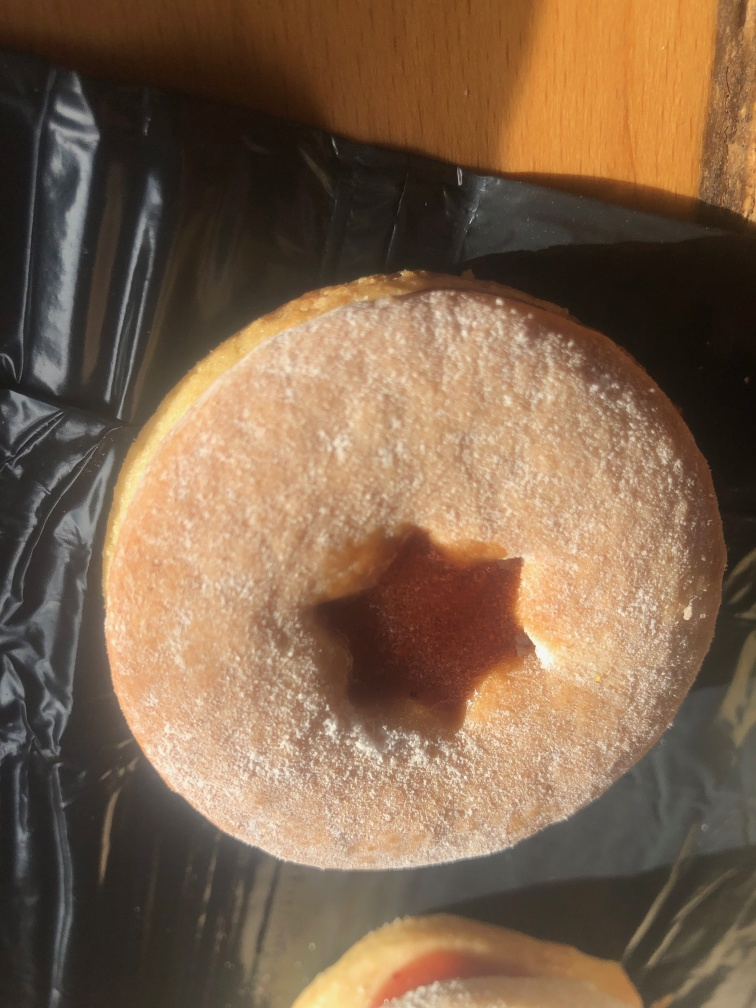christmas shortbread with jam: (98, 265, 721, 876)
